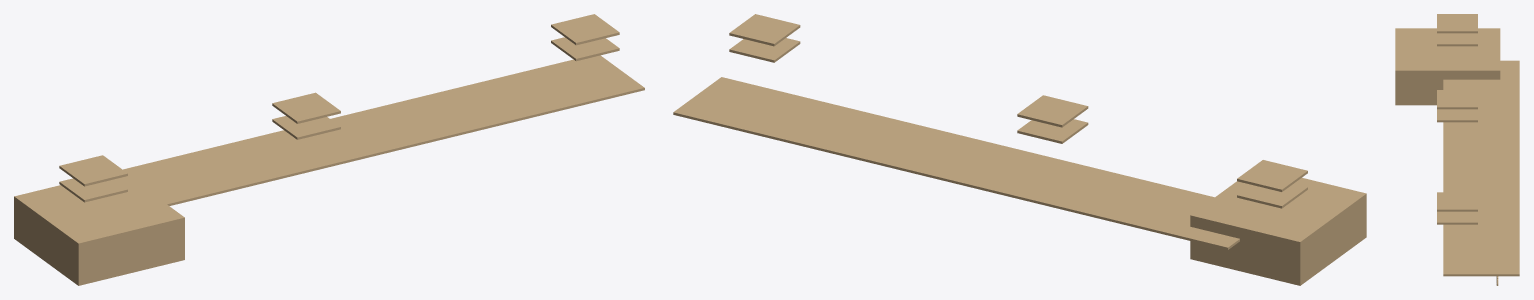
The model's file is SM_DK_07_Arabian_pit_building_arches_towers_and_domes_stone.fbx.
3 renders of one model, left to right at view 1: azimuth 30°, elevation 25°; view 2: azimuth 150°, elevation 25°; view 3: azimuth 270°, elevation 25°, orthographic. The views are drawn at different scales.
Visible parts, largest first — view 1: 07 Arabian pit building arches towers and domes | stone; view 2: 07 Arabian pit building arches towers and domes | stone; view 3: 07 Arabian pit building arches towers and domes | stone.
Boxes of the visible parts, x1,y1,x2,y2 form: 07 Arabian pit building arches towers and domes | stone: (14, 14, 644, 285); 07 Arabian pit building arches towers and domes | stone: (673, 14, 1366, 285); 07 Arabian pit building arches towers and domes | stone: (1395, 14, 1519, 285).
Bounding box in the file's own units: 11828 × 2600 × 1823.
